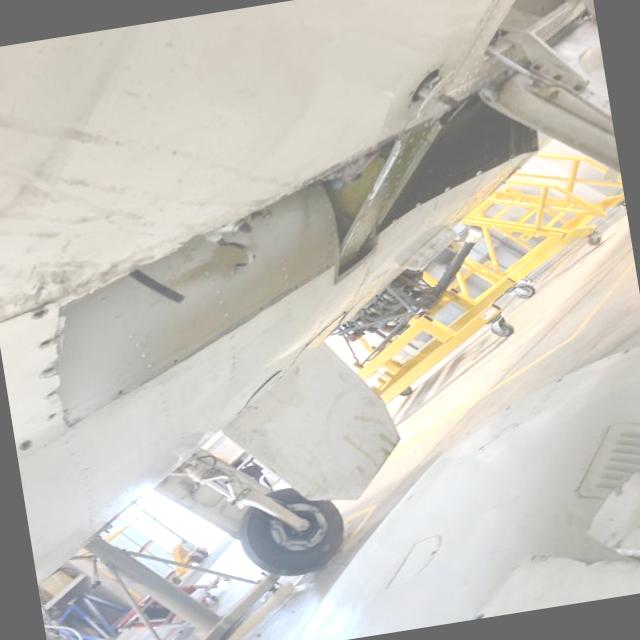Missing Fastener: (41, 364, 61, 381), (28, 305, 47, 319), (43, 409, 59, 424), (34, 336, 52, 348), (16, 439, 32, 451), (45, 387, 61, 398)
